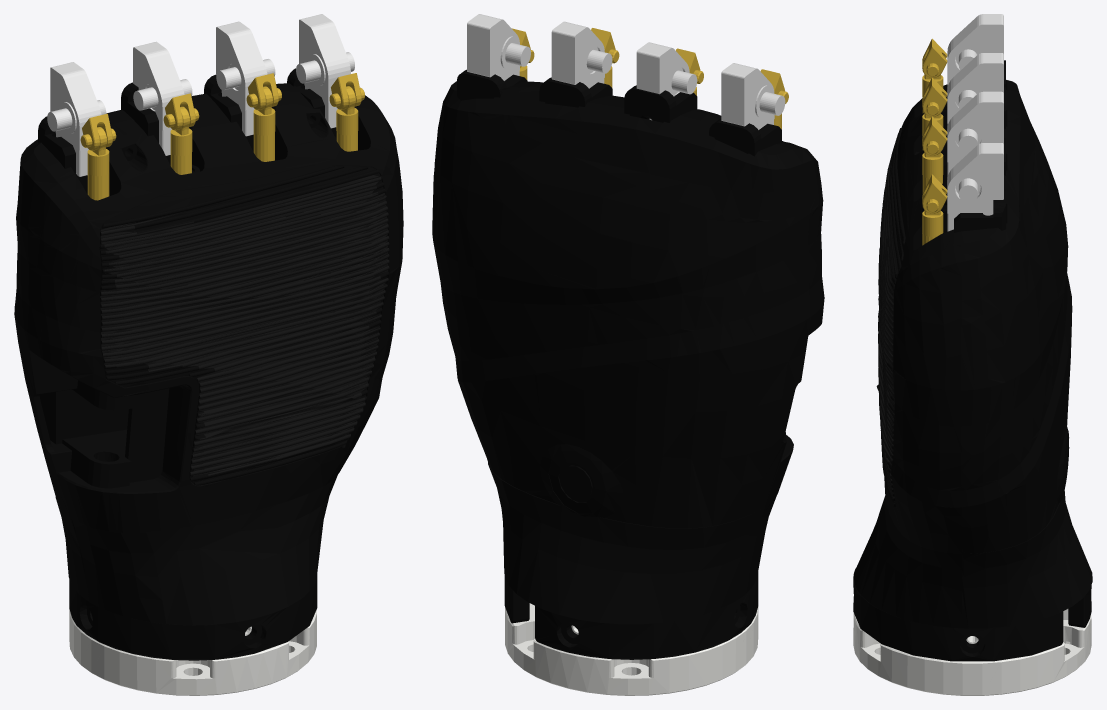
The picture shows the model from 3 angles, left to right: view 1: azimuth 30°, elevation 25°; view 2: azimuth 150°, elevation 25°; view 3: azimuth 270°, elevation 25°; orthographic projection. The views are drawn at different scales.
Parts seen in each view (by area): view 1: base_link; view 2: base_link; view 3: base_link.
Boxes of the visible parts, bbox=[...] form: base_link: bbox=[14, 14, 403, 695]; base_link: bbox=[432, 14, 824, 695]; base_link: bbox=[853, 14, 1092, 695].
Size of the model in its own units: 0.0963 by 0.1531 by 0.0572.
